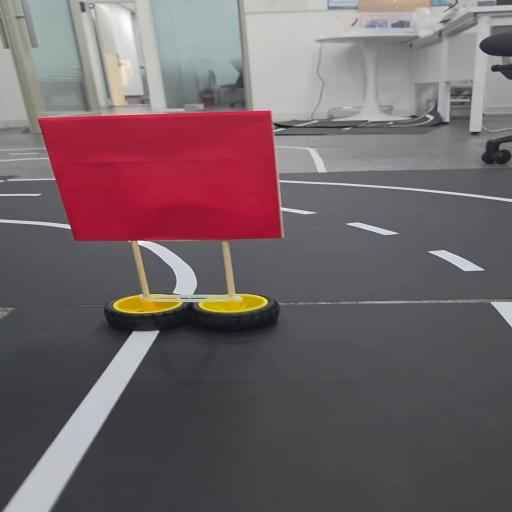Sign_A: (40, 112, 320, 342)
